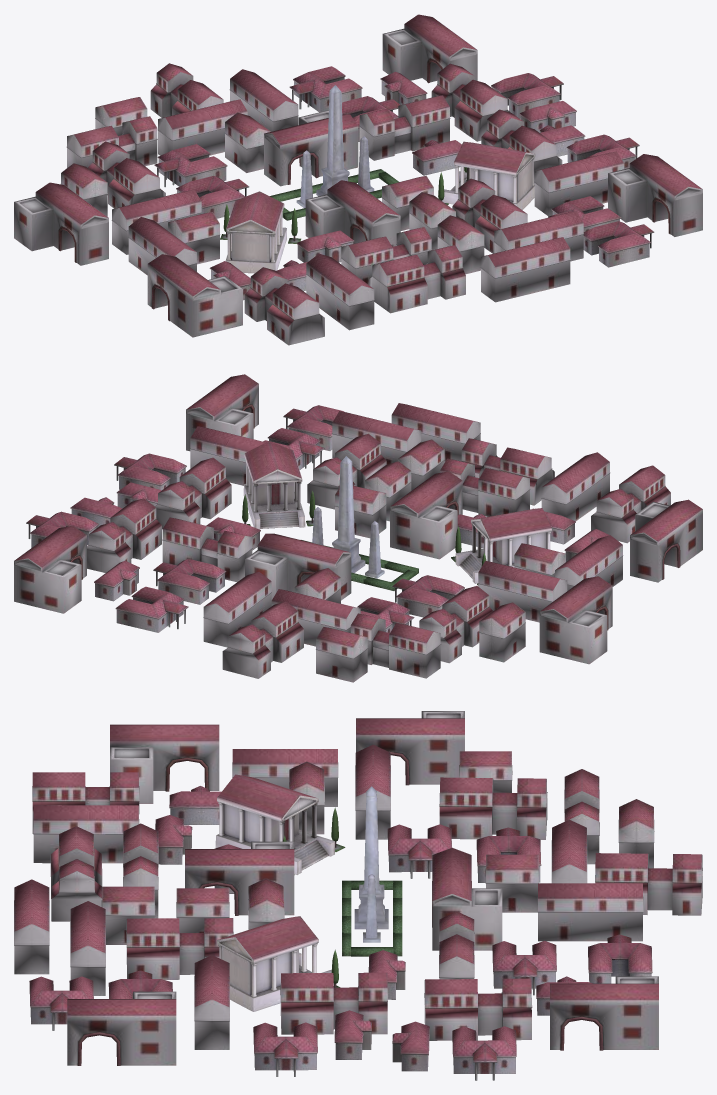
File: city_roman_4.glb
3 views of the same model, one above another, from view 1: azimuth 30°, elevation 25°; view 2: azimuth 150°, elevation 25°; view 3: azimuth 270°, elevation 25° (orthographic). The views are drawn at different scales.
Parts seen in each view (by area): view 1: low.018, low.044, low.043, low.045, low.026, low.046, low.024, low.005, low, low.034, low.013, low.012 (+36 smaller); view 2: low.018, low.044, low.046, low.005, low.045, low, low.020, low.003, low.011, low.013, low.030, low.043 (+36 smaller); view 3: low.018, low.043, low.046, low.045, low.033, low.001, low.011, low.044, low.030, low.005, low.023, low.020 (+35 smaller).
Part boxes in pixels (x1,y1,x2,y2): low.018: (225,141,535,273); low.044: (14,182,108,265); low.043: (608,154,702,236); low.045: (147,254,242,337); low.026: (369,245,465,313); low.046: (382,14,477,83); low.024: (480,237,570,302); low.005: (305,180,400,246); low: (264,110,358,186); low.034: (244,267,324,345); low.013: (359,95,450,160); low.012: (306,253,374,330); low.018: (243,441,551,583); low.044: (539,576,612,664); low.046: (14,525,86,613); low.005: (390,471,462,559); low.045: (630,499,702,582); low: (245,533,351,600); low.020: (222,601,303,678); low.003: (350,613,440,678); low.011: (87,498,161,572); low.013: (162,517,252,582); low.030: (155,457,231,529); low.043: (186,374,258,451); low.018: (215,774,334,1011); low.043: (67,991,176,1065); low.046: (550,976,658,1050); low.045: (110,724,219,803); low.033: (537,883,643,941); low.001: (439,777,547,839); low.011: (424,978,532,1040); low.044: (356,711,464,785); low.030: (280,972,387,1034); low.005: (185,841,294,915); low.023: (126,918,233,979); low.020: (595,853,702,915).
Bounding box in the file's own units: 26.75 × 5.22 × 23.81.
6 materials, 6 textured.
